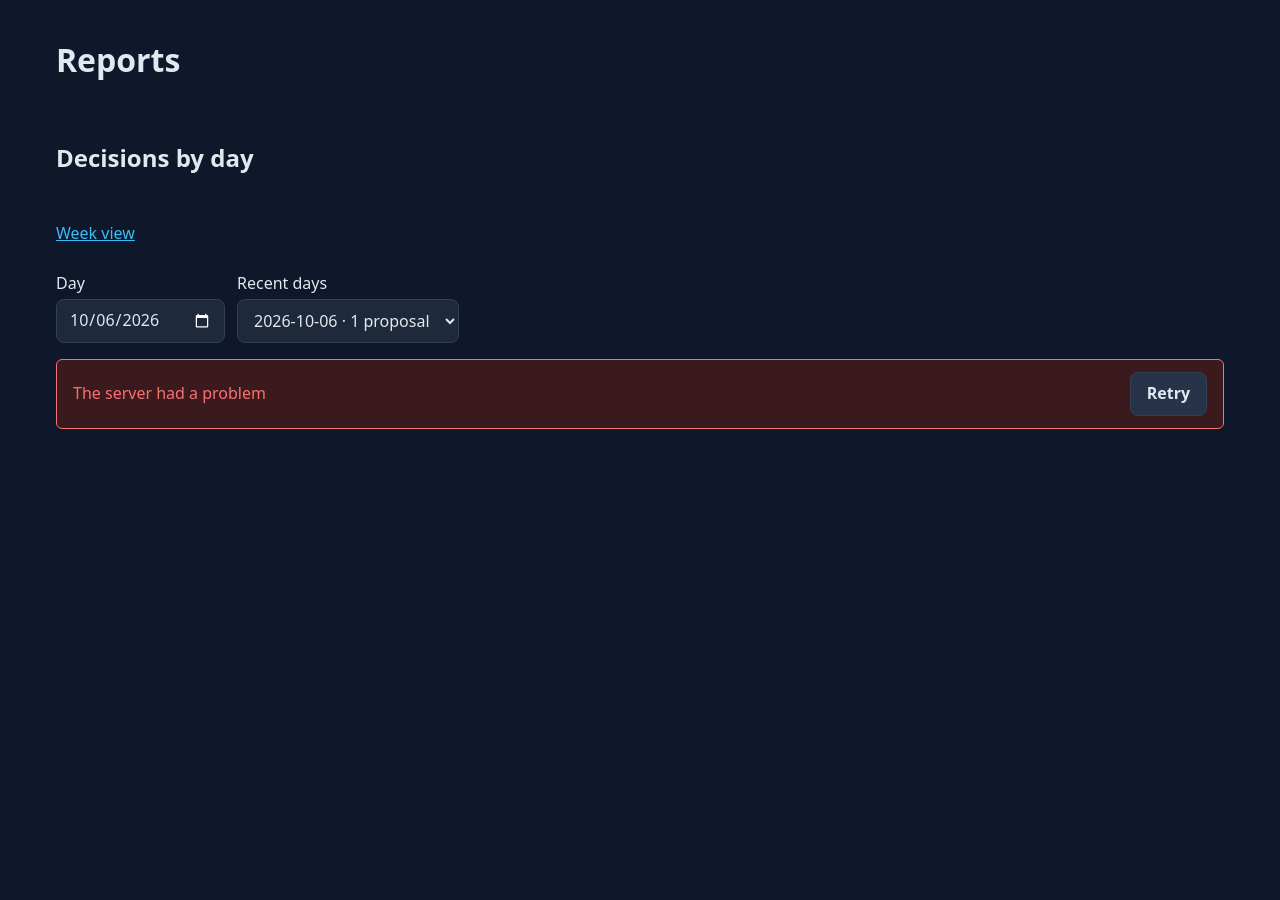
Scenario: Reports Day view › an error shows the message and Retry asks again
Expected: the message shows "The server had a problem", [73,382,266,404]
Step 1. Click the button "Retry" → (1168, 394), box [1130,372,1207,416]
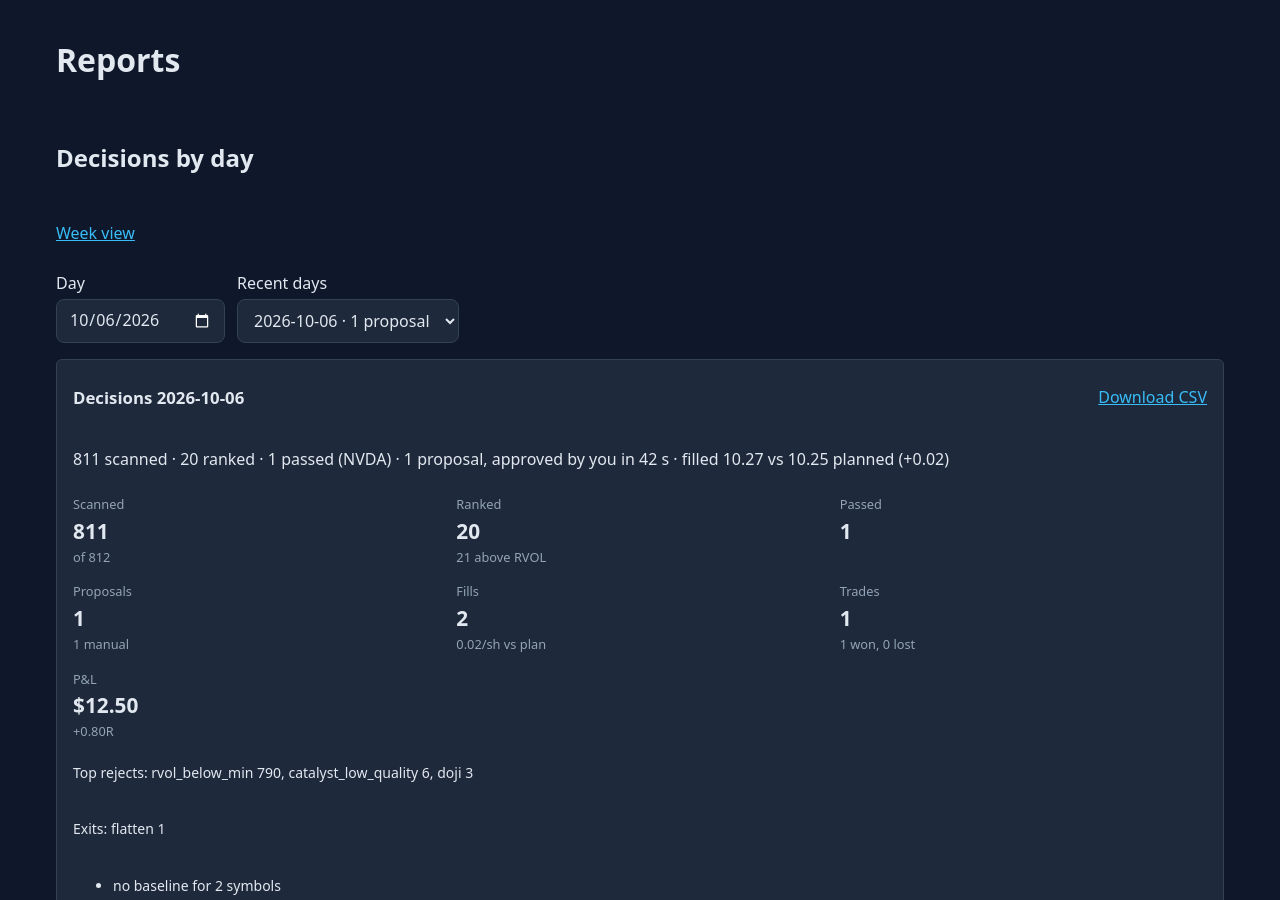
Result: the text "811 scanned · 20 ranked · 1 passed (NVDA) · 1 proposal, approved by you in 42 s · filled 10.27 vs 10.25 planned (+0.02)" is shown at [73,448,949,470]
